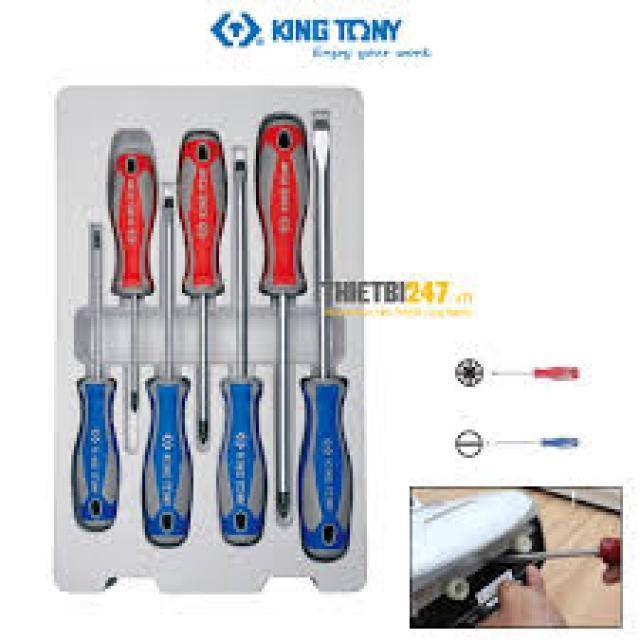screwdriver: (293, 106, 356, 564), (253, 108, 310, 526), (216, 147, 268, 550), (138, 196, 195, 549), (175, 128, 226, 452), (70, 222, 121, 537), (107, 124, 158, 414), (488, 532, 618, 574), (486, 426, 592, 464), (480, 360, 584, 382)
